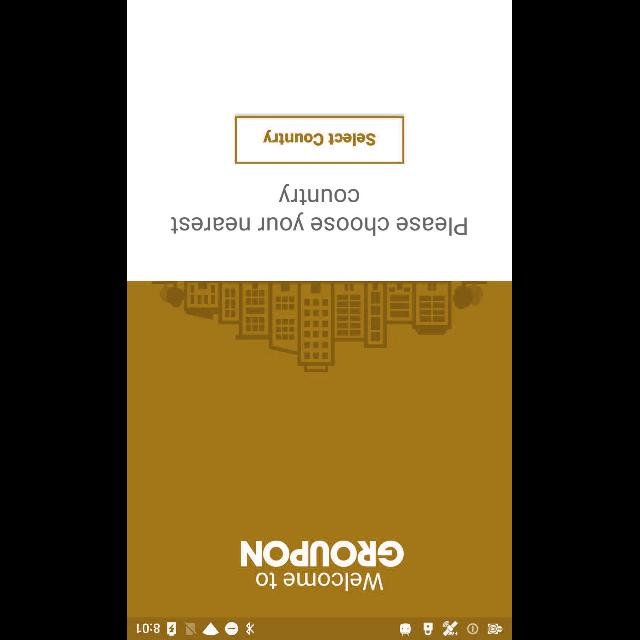image: (152, 281, 490, 373)
text: (170, 184, 468, 236), (241, 540, 405, 566), (257, 572, 385, 592)
textbutton: (236, 116, 404, 164)
uppertaskbar: (128, 617, 512, 639)
